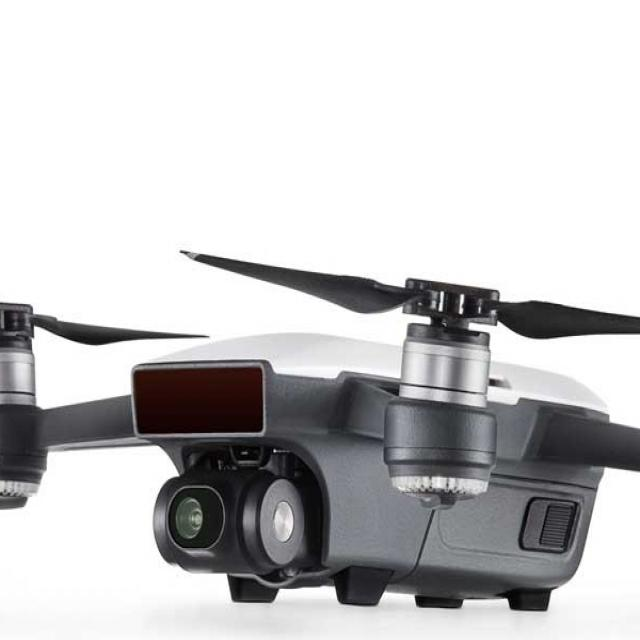drone: (0, 215, 640, 631)
